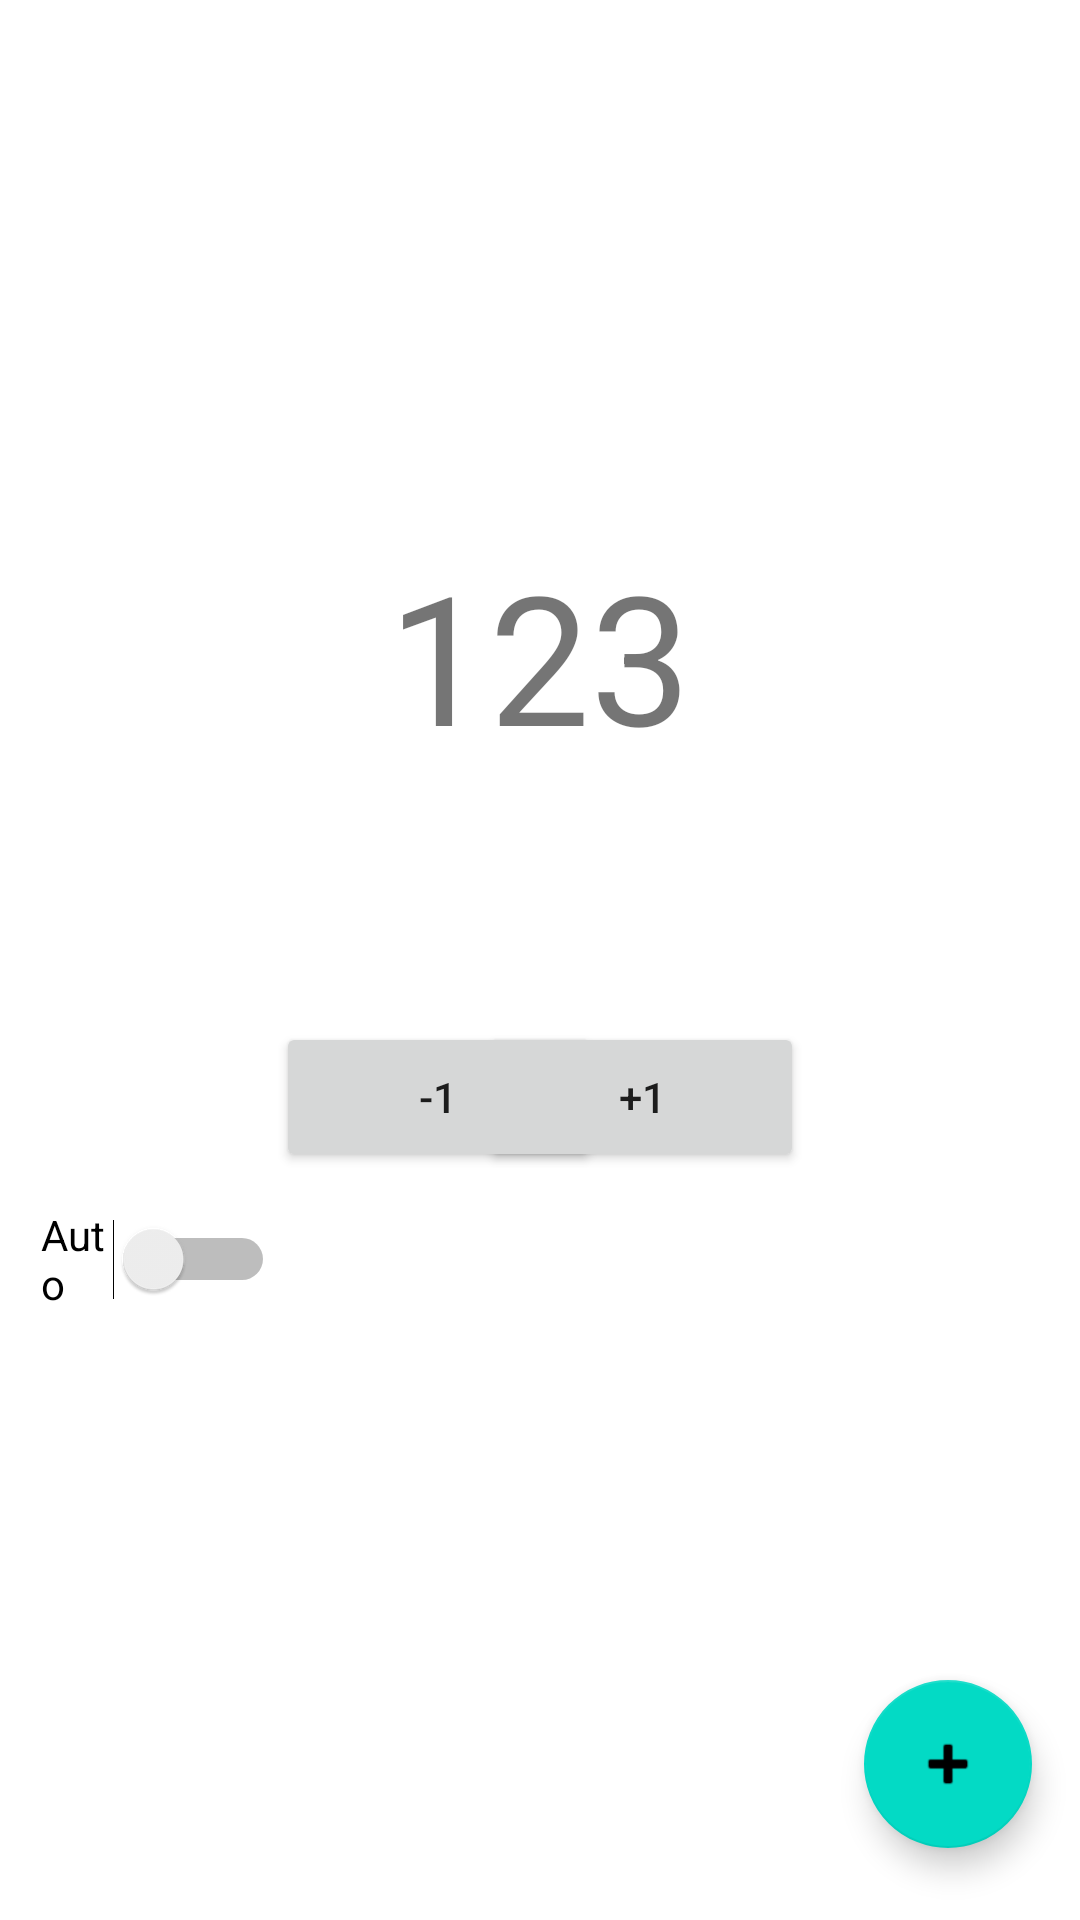

Icons on this 1080 × 1920 Android screen, each with the point to tap as point (x, y):
add: point (948, 1764)
